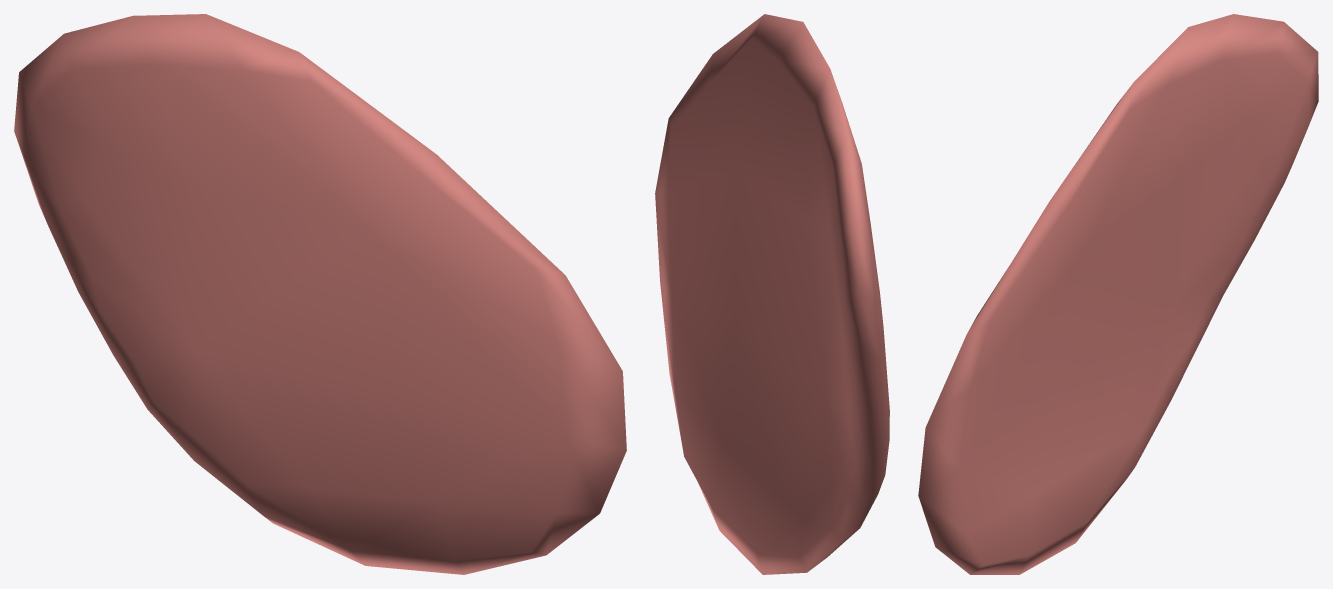
The picture shows the model from 3 angles, left to right: view 1: azimuth 30°, elevation 25°; view 2: azimuth 150°, elevation 25°; view 3: azimuth 270°, elevation 25°; orthographic projection. The views are drawn at different scales.
Visible parts, largest first — view 1: ZA_3254d1fb60dee4fd; view 2: ZA_3254d1fb60dee4fd; view 3: ZA_3254d1fb60dee4fd.
Part boxes in pixels (x1=…): ZA_3254d1fb60dee4fd: x1=14, y1=14, x2=626, y2=574; ZA_3254d1fb60dee4fd: x1=655, y1=14, x2=889, y2=574; ZA_3254d1fb60dee4fd: x1=918, y1=14, x2=1318, y2=574.
Size of the model in its own units: 0.0061 by 0.00793 by 0.00604.
